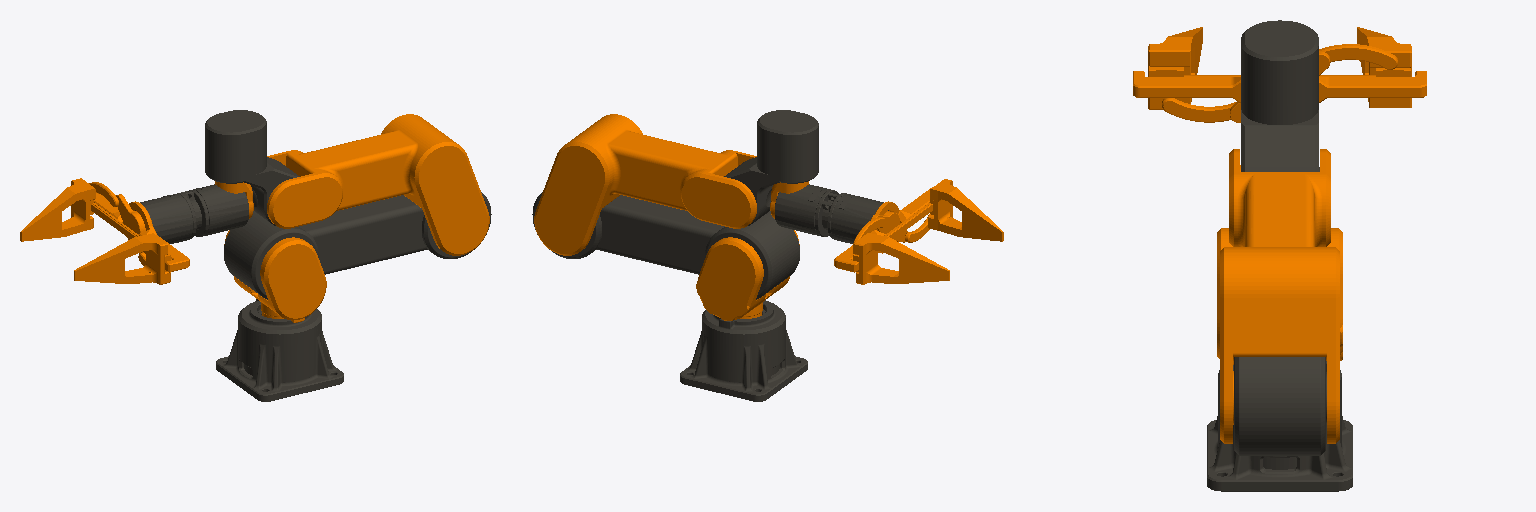
URDF robot description (EL-A3):
<?xml version="1.0" ?>
<!-- =================================================================================== -->
<!-- |    This document was autogenerated by xacro from el_a3_description/urdf/el_a3.urdf.xacro | -->
<!-- |    EDITING THIS FILE BY HAND IS NOT RECOMMENDED                                 | -->
<!-- =================================================================================== -->
<!-- EL-A3 6-DOF Robot Arm URDF with ros2_control support -->
<!-- Updated from EDULITE-A3 model -->
<robot name="EL-A3">
  <!-- Materials -->
  <material name="orange">
    <color rgba="0.972549 0.529412 0.00392157 1"/>
  </material>
  <material name="dark_brown">
    <color rgba="0.301961 0.290196 0.262745 1"/>
  </material>

  <!-- Base link (world) -->
  <link name="base_link"/>
  <joint name="base_to_l1" type="fixed">
    <parent link="base_link"/>
    <child link="l1_urdf_urdf_asm"/>
    <origin rpy="0 0 0" xyz="0 0 0"/>
  </joint>

  <!-- Link l1_urdf_urdf_asm (Base) -->
  <link name="l1_urdf_urdf_asm">
    <inertial>
      <origin rpy="0 0 0" xyz="4.66057e-08 7.85527e-05 0.0336468"/>
      <mass value="0.498832"/>
      <inertia ixx="0.000371872" ixy="-1.33362e-08" ixz="5.96807e-10" iyy="0.000365137" iyz="-1.36721e-06" izz="0.000388475"/>
    </inertial>
    <visual>
      <origin rpy="0 0 0" xyz="-0.000643355 0 0.059"/>
      <geometry>
        <mesh filename="package://el_a3_description/meshes/l1.stl"/>
      </geometry>
      <material name="dark_brown"/>
    </visual>
    <collision>
      <origin rpy="0 0 0" xyz="-0.000643355 0 0.059"/>
      <geometry>
        <mesh filename="package://el_a3_description/meshes/l1.stl"/>
      </geometry>
    </collision>
  </link>

  <!-- Link l1_link_urdf_asm -->
  <link name="l1_link_urdf_asm">
    <inertial>
      <origin rpy="0 0 0" xyz="-0.00232762 -0.00161986 0.0421389"/>
      <mass value="0.105244"/>
      <inertia ixx="0.000163151" ixy="-3.25924e-06" ixz="1.01303e-05" iyy="9.80821e-05" iyz="1.04567e-05" izz="0.000118753"/>
    </inertial>
    <visual>
      <origin rpy="3.14159 0 0" xyz="-0.000642857 0 0.001"/>
      <geometry>
        <mesh filename="package://el_a3_description/meshes/l2.stl"/>
      </geometry>
      <material name="orange"/>
    </visual>
    <collision>
      <origin rpy="3.14159 0 0" xyz="-0.000642857 0 0.001"/>
      <geometry>
        <mesh filename="package://el_a3_description/meshes/l2.stl"/>
      </geometry>
    </collision>
  </link>

  <!-- Link l2_l3_urdf_asm -->
  <link name="l2_l3_urdf_asm">
    <inertial>
      <origin rpy="0 0 0" xyz="0.0949957 1.32911e-06 0.000626283"/>
      <mass value="0.836196"/>
      <inertia ixx="0.000419405" ixy="-4.27021e-07" ixz="-4.05336e-10" iyy="0.00708317" iyz="2.8291e-09" izz="0.00707892"/>
    </inertial>
    <visual>
      <origin rpy="-1.5708 0 0" xyz="0.009 -0.07 0"/>
      <geometry>
        <mesh filename="package://el_a3_description/meshes/l3.stl"/>
      </geometry>
      <material name="dark_brown"/>
    </visual>
    <collision>
      <origin rpy="-1.5708 0 0" xyz="0.009 -0.07 0"/>
      <geometry>
        <mesh filename="package://el_a3_description/meshes/l3.stl"/>
      </geometry>
    </collision>
  </link>

  <!-- Link l3_lnik_urdf_asm -->
  <link name="l3_lnik_urdf_asm">
    <inertial>
      <origin rpy="0 0 0" xyz="-0.0743466 -0.0535452 -0.00326782"/>
      <mass value="0.262025"/>
      <inertia ixx="0.000333463" ixy="-0.000182996" ixz="-9.89508e-06" iyy="0.00130159" iyz="1.18614e-05" izz="0.00133147"/>
    </inertial>
    <visual>
      <origin rpy="-1.5708 0 0" xyz="-0.181 -0.07 0"/>
      <geometry>
        <mesh filename="package://el_a3_description/meshes/l4.stl"/>
      </geometry>
      <material name="orange"/>
    </visual>
    <collision>
      <origin rpy="-1.5708 0 0" xyz="-0.181 -0.07 0"/>
      <geometry>
        <mesh filename="package://el_a3_description/meshes/l4.stl"/>
      </geometry>
    </collision>
  </link>

  <!-- Link l4_l5_urdf_asm -->
  <link name="l4_l5_urdf_asm">
    <inertial>
      <origin rpy="0 0 0" xyz="-0.0242818 -0.0298393 0.000368105"/>
      <mass value="0.55715"/>
      <inertia ixx="0.0006785" ixy="-0.000401622" ixz="-5.0507e-06" iyy="0.000503952" iyz="-6.21816e-06" izz="0.000993465"/>
    </inertial>
    <visual>
      <origin rpy="1.5708 0 0" xyz="0.004 0.134 0"/>
      <geometry>
        <mesh filename="package://el_a3_description/meshes/l5.stl"/>
      </geometry>
      <material name="dark_brown"/>
    </visual>
    <collision>
      <origin rpy="1.5708 0 0" xyz="0.004 0.134 0"/>
      <geometry>
        <mesh filename="package://el_a3_description/meshes/l5.stl"/>
      </geometry>
    </collision>
  </link>

  <!-- Link part_9 -->
  <link name="part_9">
    <inertial>
      <origin rpy="0 0 0" xyz="0.00527533 0 -0.0216678"/>
      <mass value="0.0392349"/>
      <inertia ixx="1.45554e-05" ixy="0" ixz="4.08768e-06" iyy="1.4787e-05" iyz="0" izz="6.36147e-06"/>
    </inertial>
    <visual>
      <origin rpy="3.14159 0 0" xyz="0.0532 0 0.173"/>
      <geometry>
        <mesh filename="package://el_a3_description/meshes/l6.stl"/>
      </geometry>
      <material name="orange"/>
    </visual>
    <collision>
      <origin rpy="3.14159 0 0" xyz="0.0532 0 0.173"/>
      <geometry>
        <mesh filename="package://el_a3_description/meshes/l6.stl"/>
      </geometry>
    </collision>
  </link>

  <!-- Link l5_l6_urdf_asm (End Effector) -->
  <link name="l5_l6_urdf_asm">
    <inertial>
      <origin rpy="0 0 0" xyz="8.14367e-06 8.87434e-05 0.0699256"/>
      <mass value="0.657292"/>
      <inertia ixx="0.00132624" ixy="1.41465e-05" ixz="9.49712e-08" iyy="0.00177268" iyz="-7.87717e-06" izz="0.000610685"/>
    </inertial>
    <!-- Part el05_l6 -->
    <visual>
      <origin rpy="3.14159 0 0" xyz="0 0 -0.0755"/>
      <geometry>
        <mesh filename="package://el_a3_description/meshes/el05_l6.stl"/>
      </geometry>
      <material name="dark_brown"/>
    </visual>
    <collision>
      <origin rpy="3.14159 0 0" xyz="0 0 -0.0755"/>
      <geometry>
        <mesh filename="package://el_a3_description/meshes/el05_l6.stl"/>
      </geometry>
    </collision>
    <!-- Part jaw -->
    <visual>
      <origin rpy="3.14159 0 0" xyz="0 0 -0.0755"/>
      <geometry>
        <mesh filename="package://el_a3_description/meshes/jaw.stl"/>
      </geometry>
      <material name="orange"/>
    </visual>
    <collision>
      <origin rpy="3.14159 0 0" xyz="0 0 -0.0755"/>
      <geometry>
        <mesh filename="package://el_a3_description/meshes/jaw.stl"/>
      </geometry>
    </collision>
  </link>

  <!-- End Effector link -->
  <link name="end_effector"/>

  <!-- Joints -->
  <joint name="L1_joint" type="revolute">
    <origin rpy="3.14159 0 0" xyz="0 0 0.06"/>
    <parent link="l1_urdf_urdf_asm"/>
    <child link="l1_link_urdf_asm"/>
    <axis xyz="0 0 -1"/>
    <limit effort="14" lower="-2.79253" upper="2.79253" velocity="33"/>
    <dynamics damping="0.1" friction="0.1"/>
  </joint>
  <joint name="L2_joint" type="revolute">
    <origin rpy="-1.5708 0 0" xyz="-0.00964286 0 -0.069"/>
    <parent link="l1_link_urdf_asm"/>
    <child link="l2_l3_urdf_asm"/>
    <axis xyz="0 0 1"/>
    <limit effort="14" lower="0" upper="3.66519" velocity="33"/>
    <dynamics damping="0.1" friction="0.1"/>
  </joint>
  <joint name="L3_joint" type="revolute">
    <origin rpy="0 0 0" xyz="0.19 0 0"/>
    <parent link="l2_l3_urdf_asm"/>
    <child link="l3_lnik_urdf_asm"/>
    <axis xyz="0 0 1"/>
    <limit effort="14" lower="-4.01426" upper="0" velocity="33"/>
    <dynamics damping="0.1" friction="0.1"/>
  </joint>
  <!-- Joint L4 (EL05 Motor 4) -->
  <joint name="L4_joint" type="revolute">
    <origin rpy="-3.14159 0 0" xyz="-0.185 0.064 0"/>
    <parent link="l3_lnik_urdf_asm"/>
    <child link="l4_l5_urdf_asm"/>
    <axis xyz="0 0 -1"/>
    <limit effort="6.0" lower="-1.0472" upper="1.5708" velocity="50"/>
    <dynamics damping="0.05" friction="0.05"/>
  </joint>
  <!-- Joint L5 (EL05 Motor 5) -->
  <joint name="L5_joint" type="revolute">
    <origin rpy="-1.5708 0 0" xyz="-0.0492 -0.038 0"/>
    <parent link="l4_l5_urdf_asm"/>
    <child link="part_9"/>
    <axis xyz="0 0 1"/>
    <limit effort="6.0" lower="-1.5708" upper="1.5708" velocity="50"/>
    <dynamics damping="0.05" friction="0.05"/>
  </joint>
  <!-- Joint L6 (EL05 Motor 6) -->
  <joint name="L6_joint" type="revolute">
    <origin rpy="-1.5708 0 -1.5708" xyz="0.00685 0 0.039"/>
    <parent link="part_9"/>
    <child link="l5_l6_urdf_asm"/>
    <axis xyz="0 0 1"/>
    <limit effort="6.0" lower="-1.5708" upper="1.5708" velocity="50"/>
    <dynamics damping="0.05" friction="0.05"/>
  </joint>
  <!-- End Effector joint -->
  <joint name="end_effector_joint" type="fixed">
    <origin rpy="0 0 0" xyz="0 0 -0.074"/>
    <parent link="l5_l6_urdf_asm"/>
    <child link="end_effector"/>
  </joint>
  <ros2_control name="RsA3System" type="system">
    <hardware>
      <plugin>el_a3_hardware/RsA3HardwareInterface</plugin>
      <param name="can_interface">can0</param>
      <param name="host_can_id">253</param>
      <param name="position_kp">80.0</param>
      <param name="position_kd">4.0</param>
      <param name="velocity_limit">10.0</param>
      <param name="s_curve_enabled">false</param>
      <param name="max_velocity">3.0</param>
      <param name="max_acceleration">15.0</param>
      <param name="max_jerk">50.0</param>
      <param name="smoothing_alpha">0.2</param>
      <param name="gravity_feedforward_ratio">0.5</param>
      <param name="zero_torque_kd">0.1</param>
      <!-- Pinocchio dynamics model configuration -->
      <param name="urdf_path">urdf/el_a3.urdf</param>
      <param name="use_pinocchio_gravity">true</param>
      <param name="inertia_config_path">config/inertia_params.yaml</param>
      <!-- Inertia parameter scale factors (legacy) -->
      <param name="inertia_scale_L1_mass">1.0000</param>
      <param name="inertia_scale_L2_mass">2.0000</param>
      <param name="inertia_scale_L3_mass">0.6839</param>
      <param name="inertia_scale_L4_mass">0.3500</param>
      <param name="inertia_scale_L5_mass">1.0000</param>
      <param name="inertia_scale_L6_mass">1.0000</param>
      <!-- Gravity compensation parameters -->
      <param name="gravity_comp_L1_sin">0.0</param>
      <param name="gravity_comp_L1_cos">0.0</param>
      <param name="gravity_comp_L1_offset">0.0</param>
      <param name="gravity_comp_L2_sin">3.5</param>
      <param name="gravity_comp_L2_cos">0.0</param>
      <param name="gravity_comp_L2_offset">0.0</param>
      <param name="gravity_comp_L3_sin">2.0</param>
      <param name="gravity_comp_L3_cos">0.0</param>
      <param name="gravity_comp_L3_offset">0.0</param>
      <param name="gravity_comp_L4_sin">0.0</param>
      <param name="gravity_comp_L4_cos">0.0</param>
      <param name="gravity_comp_L4_offset">0.0</param>
      <param name="gravity_comp_L5_sin">0.3</param>
      <param name="gravity_comp_L5_cos">0.0</param>
      <param name="gravity_comp_L5_offset">0.0</param>
      <param name="gravity_comp_L6_sin">0.0</param>
      <param name="gravity_comp_L6_cos">0.0</param>
      <param name="gravity_comp_L6_offset">0.0</param>
    </hardware>
    <!-- Joint L1 - RS00 Motor 1 -->
    <joint name="L1_joint">
      <param name="motor_id">1</param>
      <param name="motor_type">RS00</param>
      <param name="position_offset">0.0</param>
      <param name="direction">-1.0</param>
      <command_interface name="position">
        <param name="min">-2.79253</param>
        <param name="max">2.79253</param>
      </command_interface>
      <command_interface name="velocity">
        <param name="min">-33.0</param>
        <param name="max">33.0</param>
      </command_interface>
      <command_interface name="effort">
        <param name="min">-14.0</param>
        <param name="max">14.0</param>
      </command_interface>
      <state_interface name="position"/>
      <state_interface name="velocity"/>
      <state_interface name="effort"/>
    </joint>
    <!-- Joint L2 - RS00 Motor 2 -->
    <joint name="L2_joint">
      <param name="motor_id">2</param>
      <param name="motor_type">RS00</param>
      <param name="position_offset">0.0</param>
      <param name="direction">1.0</param>
      <command_interface name="position">
        <param name="min">0</param>
        <param name="max">3.66519</param>
      </command_interface>
      <command_interface name="velocity">
        <param name="min">-33.0</param>
        <param name="max">33.0</param>
      </command_interface>
      <command_interface name="effort">
        <param name="min">-14.0</param>
        <param name="max">14.0</param>
      </command_interface>
      <state_interface name="position"/>
      <state_interface name="velocity"/>
      <state_interface name="effort"/>
    </joint>
    <!-- Joint L3 - RS00 Motor 3 -->
    <joint name="L3_joint">
      <param name="motor_id">3</param>
      <param name="motor_type">RS00</param>
      <param name="position_offset">0.0</param>
      <param name="direction">-1.0</param>
      <command_interface name="position">
        <param name="min">-4.01426</param>
        <param name="max">0</param>
      </command_interface>
      <command_interface name="velocity">
        <param name="min">-33.0</param>
        <param name="max">33.0</param>
      </command_interface>
      <command_interface name="effort">
        <param name="min">-14.0</param>
        <param name="max">14.0</param>
      </command_interface>
      <state_interface name="position"/>
      <state_interface name="velocity"/>
      <state_interface name="effort"/>
    </joint>
    <!-- Joint L4 - EL05 Motor 4 -->
    <joint name="L4_joint">
      <param name="motor_id">4</param>
      <param name="motor_type">EL05</param>
      <param name="position_offset">0.0</param>
      <param name="direction">1.0</param>
      <command_interface name="position">
        <param name="min">-1.0472</param>
        <param name="max">1.5708</param>
      </command_interface>
      <command_interface name="velocity">
        <param name="min">-50.0</param>
        <param name="max">50.0</param>
      </command_interface>
      <command_interface name="effort">
        <param name="min">-6.0</param>
        <param name="max">6.0</param>
      </command_interface>
      <state_interface name="position"/>
      <state_interface name="velocity"/>
      <state_interface name="effort"/>
    </joint>
    <!-- Joint L5 - EL05 Motor 5 -->
    <joint name="L5_joint">
      <param name="motor_id">5</param>
      <param name="motor_type">EL05</param>
      <param name="position_offset">0.0</param>
      <param name="direction">-1.0</param>
      <command_interface name="position">
        <param name="min">-1.5708</param>
        <param name="max">1.5708</param>
      </command_interface>
      <command_interface name="velocity">
        <param name="min">-50.0</param>
        <param name="max">50.0</param>
      </command_interface>
      <command_interface name="effort">
        <param name="min">-6.0</param>
        <param name="max">6.0</param>
      </command_interface>
      <state_interface name="position"/>
      <state_interface name="velocity"/>
      <state_interface name="effort"/>
    </joint>
    <!-- Joint L6 - EL05 Motor 6 -->
    <joint name="L6_joint">
      <param name="motor_id">6</param>
      <param name="motor_type">EL05</param>
      <param name="position_offset">0.0</param>
      <param name="direction">1.0</param>
      <command_interface name="position">
        <param name="min">-1.5708</param>
        <param name="max">1.5708</param>
      </command_interface>
      <command_interface name="velocity">
        <param name="min">-50.0</param>
        <param name="max">50.0</param>
      </command_interface>
      <command_interface name="effort">
        <param name="min">-6.0</param>
        <param name="max">6.0</param>
      </command_interface>
      <state_interface name="position"/>
      <state_interface name="velocity"/>
      <state_interface name="effort"/>
    </joint>
  </ros2_control>
</robot>

--- Facts derived from the render (not from the file) ---
3 views of the same robot in one strip: view 1: azimuth 30°, elevation 25°; view 2: azimuth 150°, elevation 25°; view 3: azimuth 270°, elevation 25° (orthographic).
Robot: EL-A3 — 9 links, 8 joints (6 revolute, 2 fixed); root link base_link; default pose: every joint at zero.
Links seen in each view (by area): view 1: l3_lnik_urdf_asm, l5_l6_urdf_asm, l2_l3_urdf_asm, l1_urdf_urdf_asm, l4_l5_urdf_asm, l1_link_urdf_asm; view 2: l3_lnik_urdf_asm, l5_l6_urdf_asm, l2_l3_urdf_asm, l1_urdf_urdf_asm, l4_l5_urdf_asm, l1_link_urdf_asm; view 3: l3_lnik_urdf_asm, l5_l6_urdf_asm, l4_l5_urdf_asm, l2_l3_urdf_asm, l1_urdf_urdf_asm, l1_link_urdf_asm.
Link boxes in pixels (x1,y1,x2,y2): l3_lnik_urdf_asm: [267, 114, 489, 255]; l5_l6_urdf_asm: [20, 178, 248, 284]; l2_l3_urdf_asm: [224, 192, 491, 299]; l1_urdf_urdf_asm: [216, 299, 343, 401]; l4_l5_urdf_asm: [205, 110, 299, 225]; l1_link_urdf_asm: [224, 230, 326, 322]; l3_lnik_urdf_asm: [534, 114, 756, 255]; l5_l6_urdf_asm: [775, 179, 1003, 284]; l2_l3_urdf_asm: [532, 192, 799, 299]; l1_urdf_urdf_asm: [680, 300, 807, 401]; l4_l5_urdf_asm: [724, 110, 818, 225]; l1_link_urdf_asm: [696, 230, 799, 320]; l3_lnik_urdf_asm: [1220, 149, 1339, 443]; l5_l6_urdf_asm: [1133, 27, 1426, 122]; l4_l5_urdf_asm: [1241, 20, 1319, 171]; l2_l3_urdf_asm: [1234, 357, 1326, 455]; l1_urdf_urdf_asm: [1207, 361, 1352, 491]; l1_link_urdf_asm: [1217, 228, 1342, 364].
Bounding box of the posed robot: 0.4744 × 0.191 × 0.279 m (x, y, z).
8 mesh visuals loaded from 8 distinct referenced files (8 binary STL).
